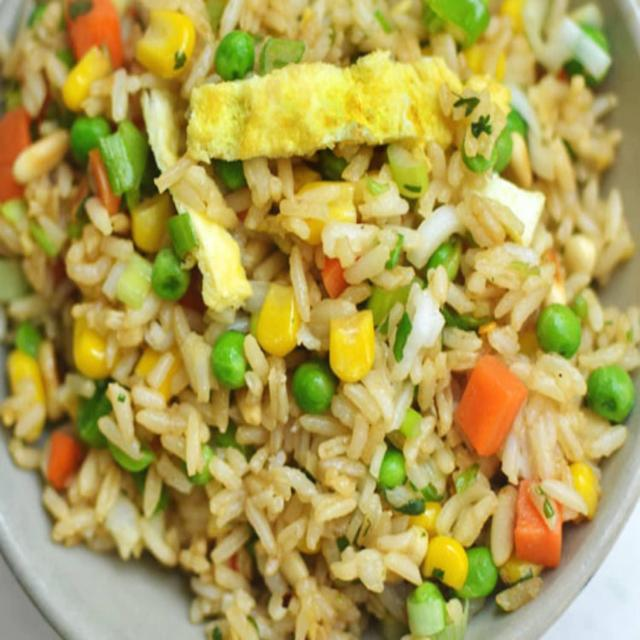Nasi Goreng: (3, 2, 635, 637)
